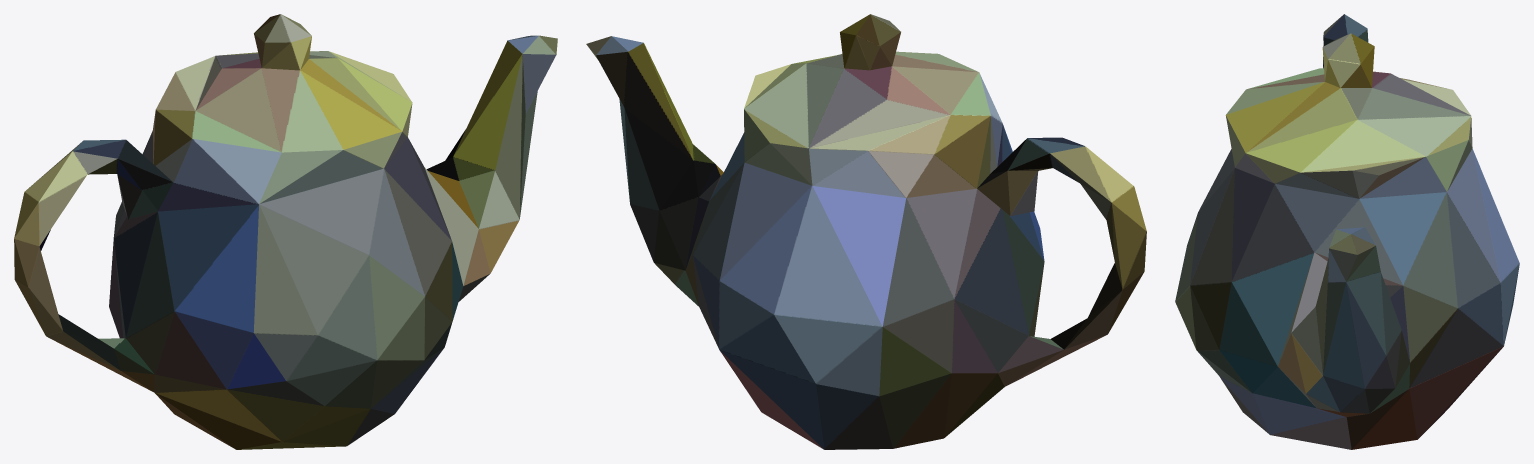
Rendered from teapot.fbx.
The picture shows the model from 3 angles, left to right: view 1: azimuth 30°, elevation 25°; view 2: azimuth 150°, elevation 25°; view 3: azimuth 270°, elevation 25°; orthographic projection. The views are drawn at different scales.
Visible parts, largest first — view 1: Mesh_0; view 2: Mesh_0; view 3: Mesh_0.
Part boxes in pixels (box(x1,y1,x2,y2)): Mesh_0: box(14, 14, 557, 449); Mesh_0: box(586, 14, 1146, 449); Mesh_0: box(1175, 14, 1519, 449).
Size of the model in its own units: 120 by 82.96 by 67.86.
Materials: 1 (1 with a texture image).
